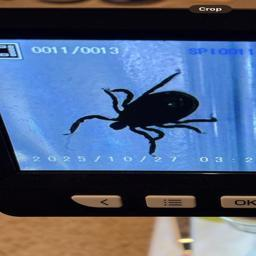Ixodes scapularis: (66, 73, 217, 154)
